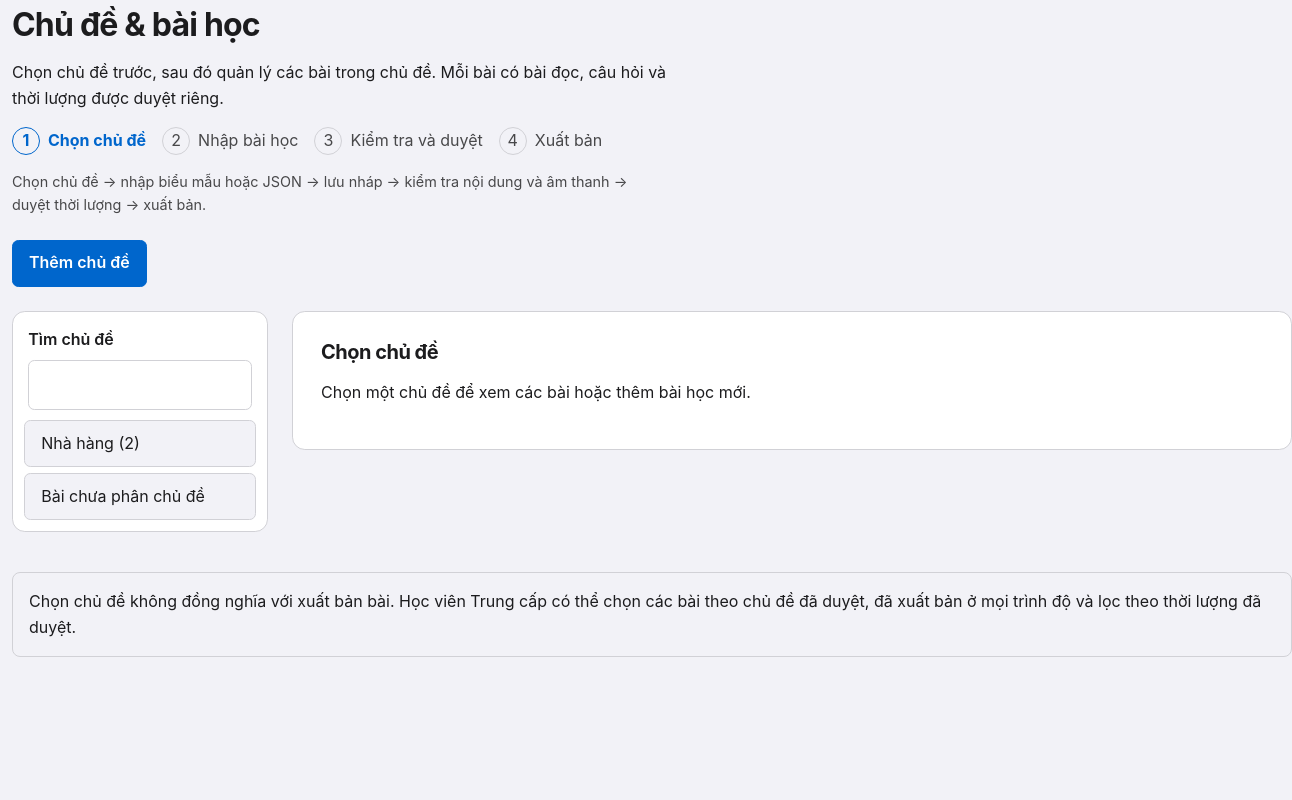
Intermediate topic group workspace › shows Vietnamese names alone on Vietnamese category menus and assignment options
Click the button "Nhà hàng (2)": click(140, 443) [24,420,256,467]
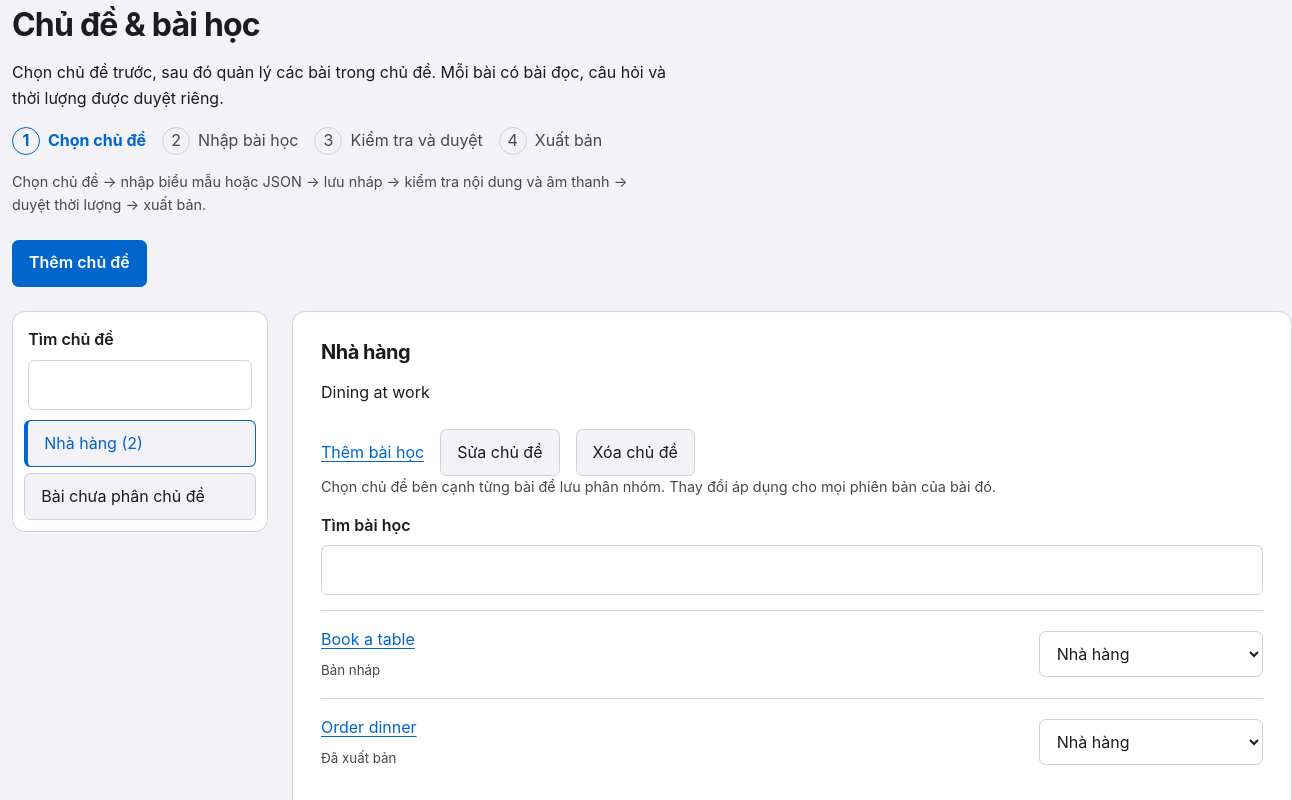
Expected: the heading "Nhà hàng" is shown, [321,340,410,364]
